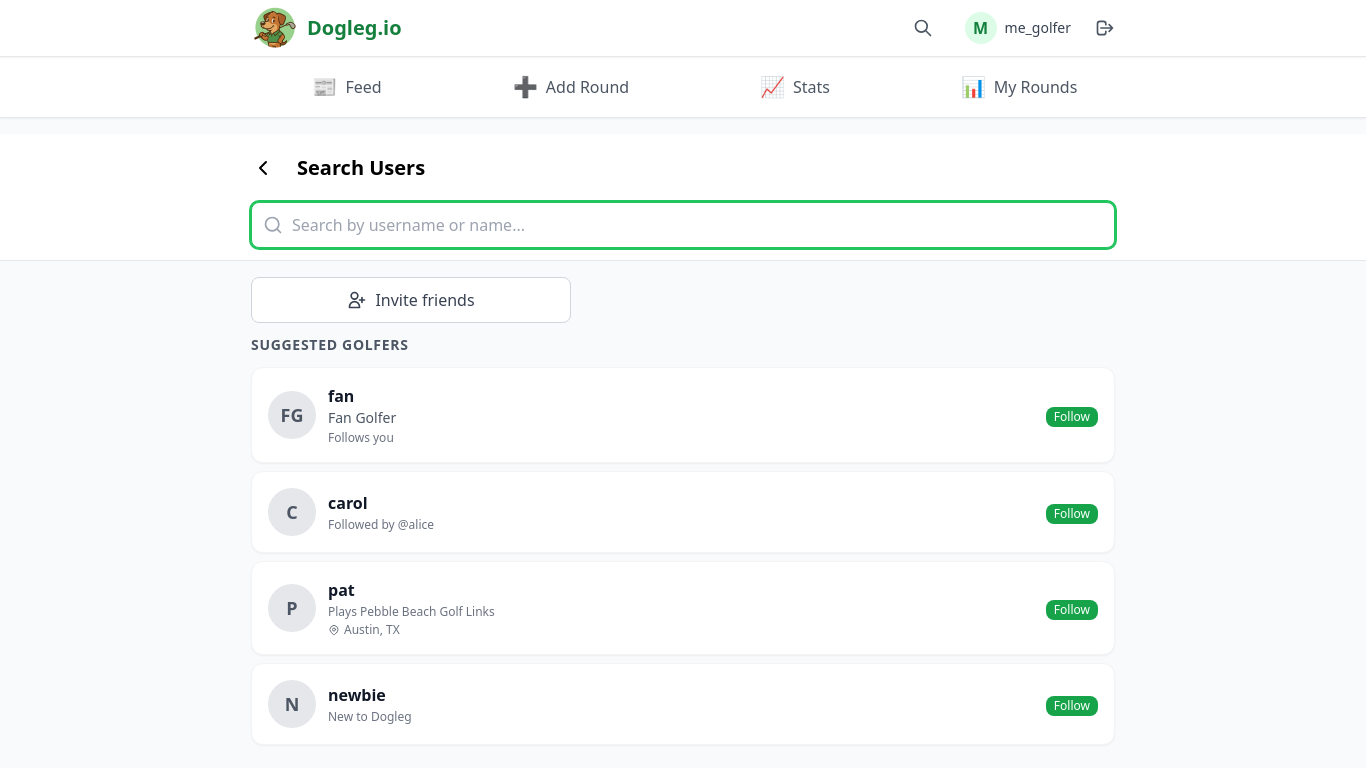
Test: following a suggested golfer saves the follow and keeps them on the list as "Following"
This screenshot has width=1366, height=768.
Expected: the text "Follows you" is shown, [328, 429, 394, 446]
Click the button "Follow" in the row of "Followed by @alice": (1072, 514) [1046, 504, 1098, 524]
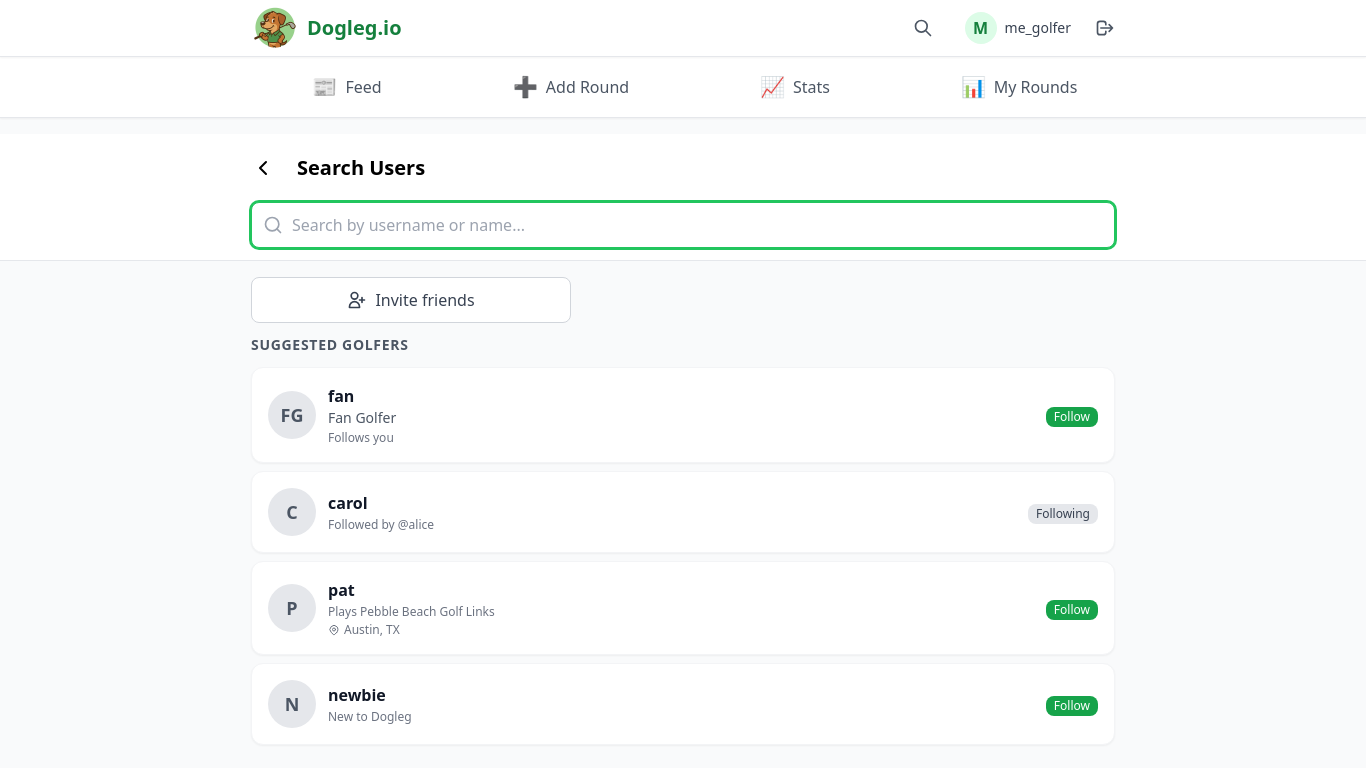
Expected: the button "Follow" in the row of "Fan Golfer" is shown, [1046, 407, 1098, 427]
Now the button "Following" is shown, box [1028, 504, 1098, 524]
